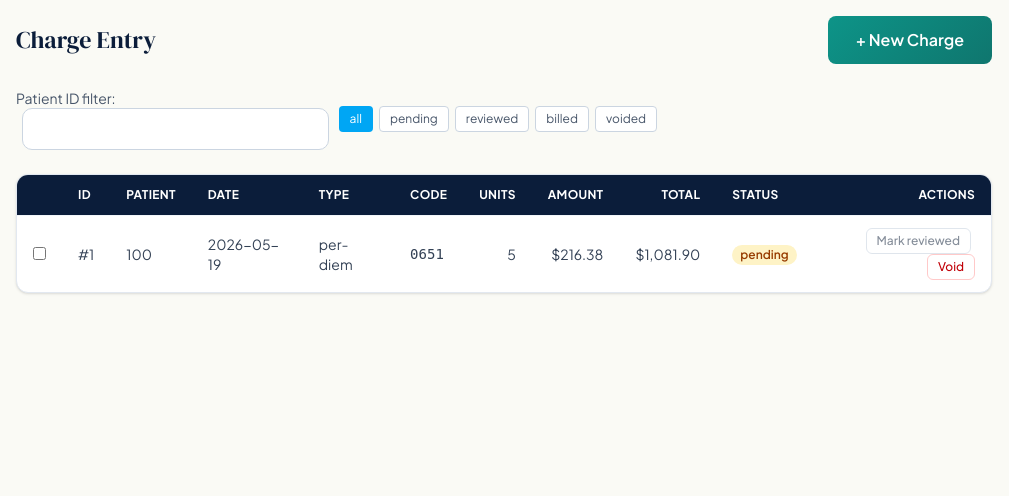
Test: ChargeEntryPage › permission gating › disables Attach to claim with a permission tooltip when lacking claims:edit
Check: the text "#1" is shown, box [62,216,110,292]
Click the checkbox named "Select charge 1".
click(40, 254)  # box [33,247,46,260]
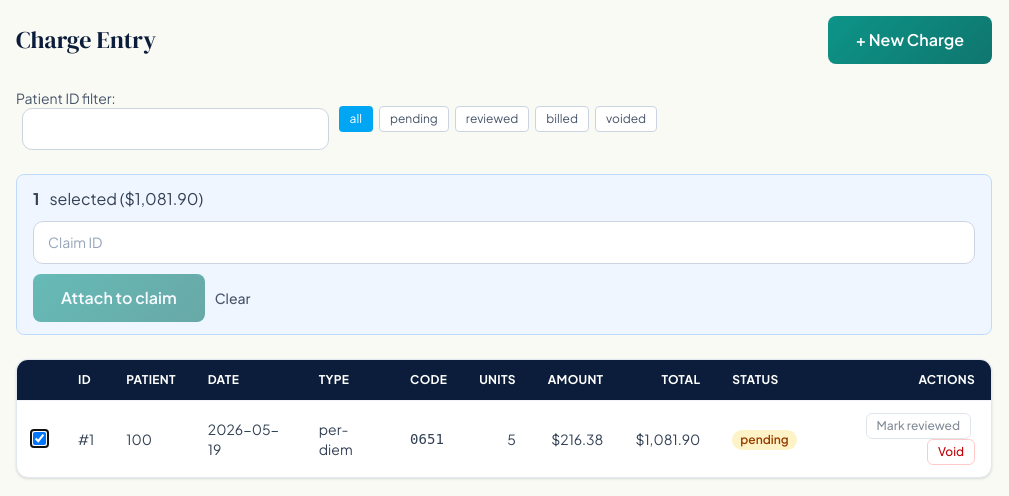
Check: the button "Attach to claim" is disabled, box [33,274,205,322]
